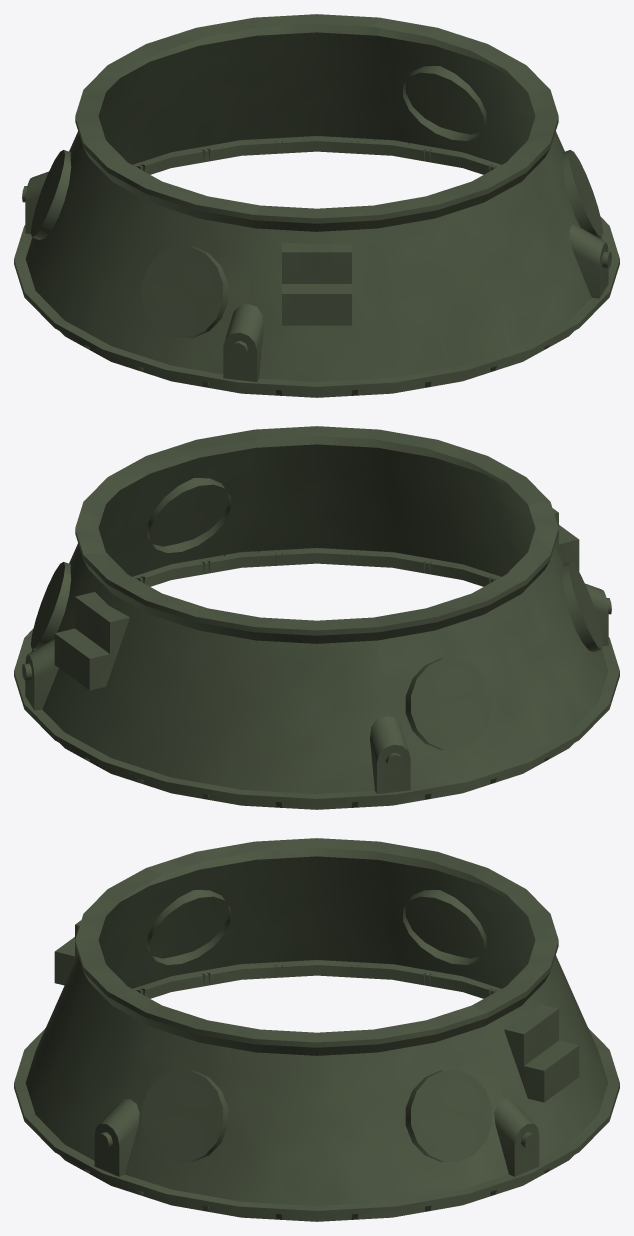
File: avionics.obj
The picture shows the model from 3 angles, top to bottom: view 1: azimuth 30°, elevation 25°; view 2: azimuth 150°, elevation 25°; view 3: azimuth 270°, elevation 25°; orthographic projection.
Parts seen in each view (by area): view 1: 1; view 2: 1; view 3: 1.
Boxes of the visible parts, x1,y1,x2,y2 form: 1: [14, 14, 619, 397]; 1: [14, 426, 619, 809]; 1: [14, 838, 619, 1221].
Size of the model in its own units: 1.3 by 0.375 by 1.3.
